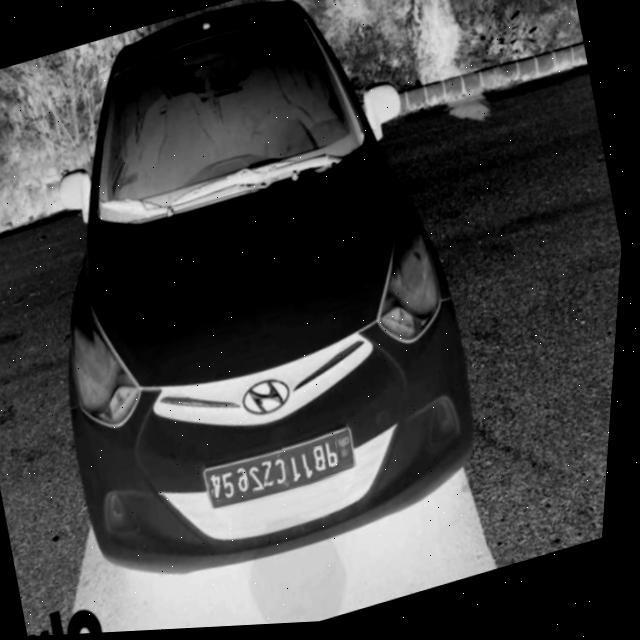1: (303, 452, 322, 485), (289, 457, 309, 487)
2: (252, 465, 273, 497)
4: (214, 475, 234, 504)
5: (226, 471, 245, 502)
9: (240, 468, 259, 498)
B: (315, 448, 337, 478)
C: (277, 460, 298, 491)
IND: (340, 436, 361, 465)
Indian_registered: (211, 433, 361, 511)
P: (329, 443, 348, 475)
Z: (265, 461, 286, 493)
